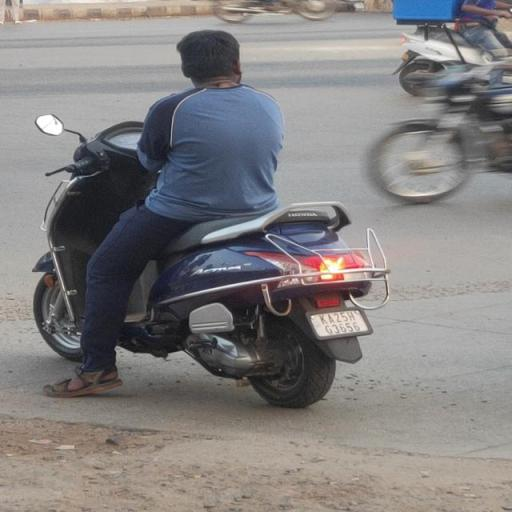bike: (24, 22, 396, 412)
numberplate: (308, 300, 368, 342)
withouthelmet: (181, 32, 239, 83)
